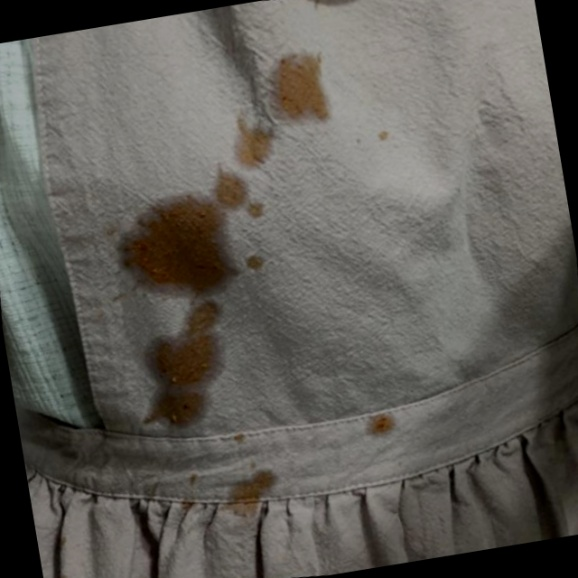kimchi: (90, 163, 321, 438), (207, 38, 353, 169), (157, 424, 289, 539), (352, 395, 410, 450), (377, 125, 398, 149)
